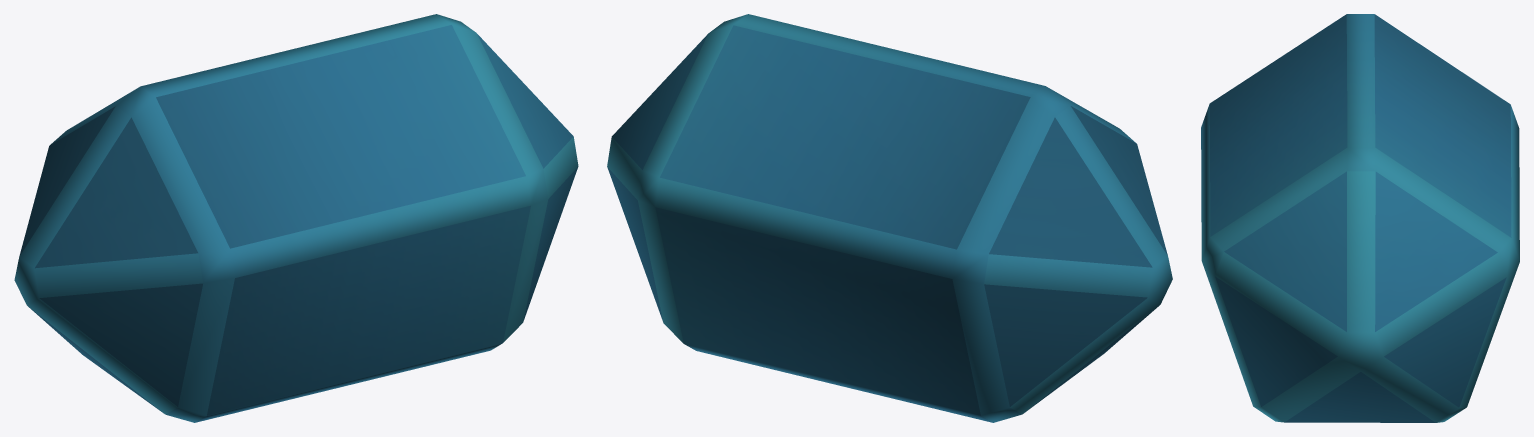
Rendered from christal_saphire_4.fbx.
3 views of the same model, side by side, from view 1: azimuth 30°, elevation 25°; view 2: azimuth 150°, elevation 25°; view 3: azimuth 270°, elevation 25° (orthographic). The views are drawn at different scales.
Visible parts, largest first — view 1: christal_saphire_4; view 2: christal_saphire_4; view 3: christal_saphire_4.
Part boxes in pixels (<box>): christal_saphire_4: <box>14,14,578,422</box>; christal_saphire_4: <box>607,14,1172,422</box>; christal_saphire_4: <box>1201,14,1519,422</box>.
Bounding box in the file's own units: 64.69 × 34.12 × 35.88.
1 material, 1 textured.
